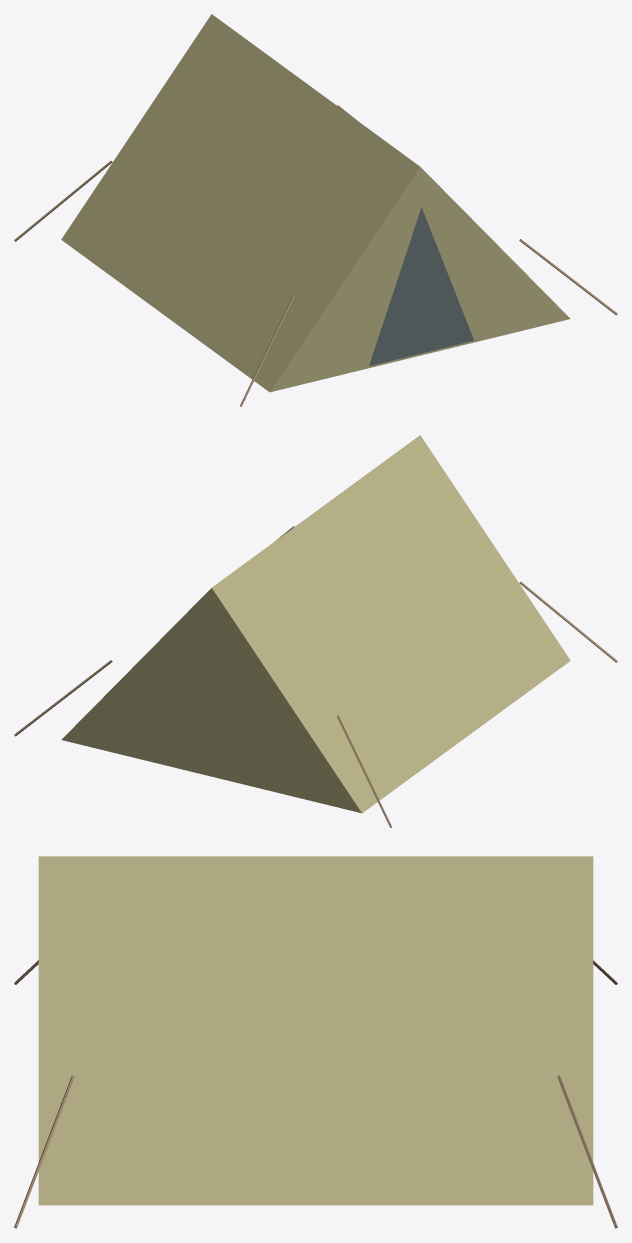
The picture shows the model from 3 angles, top to bottom: view 1: azimuth 30°, elevation 25°; view 2: azimuth 150°, elevation 25°; view 3: azimuth 270°, elevation 25°; orthographic projection. The views are drawn at different scales.
Bounding box in the file's own units: 5.02 × 2.4 × 5.23.
